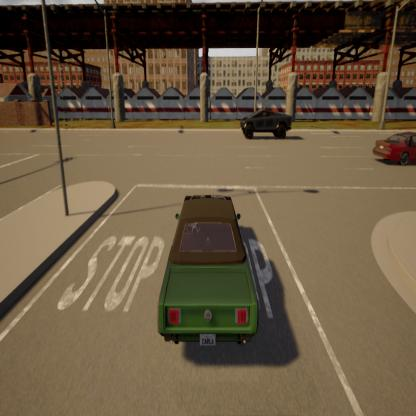Cars: (151, 175, 265, 362), (234, 106, 298, 142), (368, 125, 416, 168)
